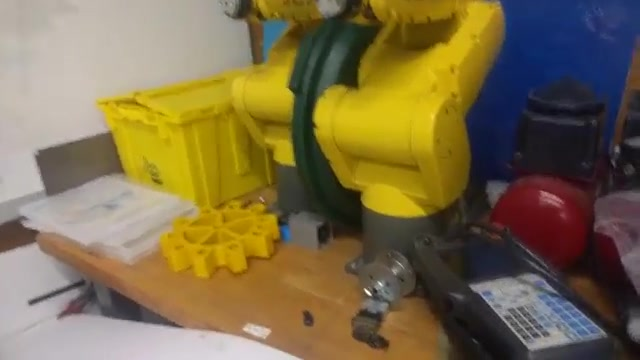gear: (157, 197, 283, 290)
